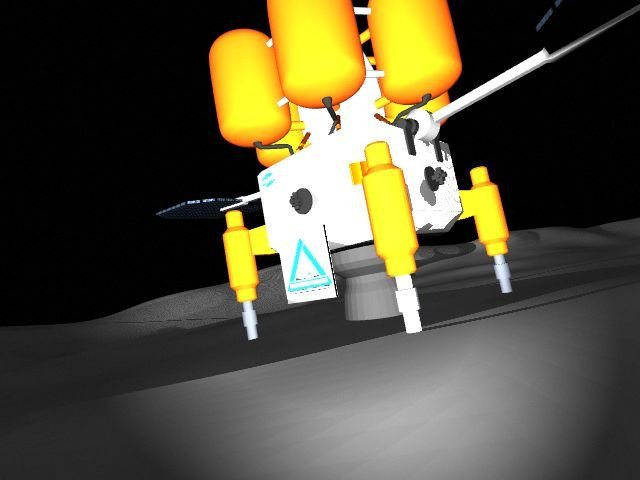basemarker: (287, 236, 334, 296)
